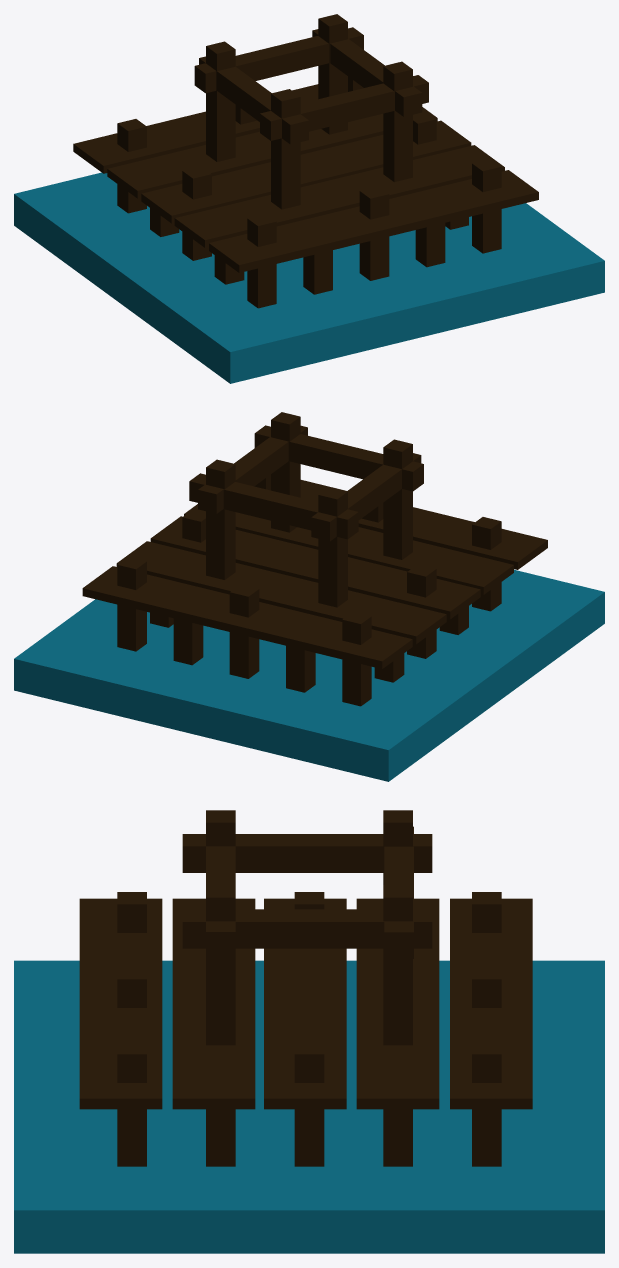
File: Fishery0.obj
The picture shows the model from 3 angles, top to bottom: view 1: azimuth 30°, elevation 25°; view 2: azimuth 150°, elevation 25°; view 3: azimuth 270°, elevation 25°; orthographic projection. The views are drawn at different scales.
Parts seen in each view (by area): view 1: Tilebase118, Box905, Box888, Box906, Box918, Box919, Box910, Box911, Box889, Box908, Box909, Box912 (+11 smaller); view 2: Tilebase118, Box919, Box918, Box906, Box888, Box905, Box911, Box910, Box907, Box909, Box908, Box912 (+12 smaller); view 3: Tilebase118, Box905, Box919, Box906, Box888, Box918, Box913, Box912, Box907, Box889, Box891, Box894 (+11 smaller).
Part boxes in pixels (box(x1,y1,x2,y2)): Tilebase118: box(14, 172, 604, 383); Box905: box(209, 170, 538, 272); Box888: box(174, 145, 504, 247); Box906: box(141, 120, 471, 223); Box918: box(107, 107, 437, 198); Box919: box(73, 84, 318, 173); Box910: box(260, 75, 428, 140); Box911: box(194, 27, 363, 93); Box889: box(383, 61, 412, 181); Box908: box(271, 89, 300, 209); Box909: box(206, 41, 235, 161); Box912: box(199, 56, 308, 144); Tilebase118: box(14, 569, 604, 781); Box919: box(82, 566, 412, 668); Box918: box(116, 541, 446, 644); Box906: box(150, 516, 480, 619); Box888: box(184, 504, 513, 594); Box905: box(300, 480, 547, 569); Box911: box(189, 473, 358, 539); Box910: box(254, 425, 423, 491); Box907: box(206, 459, 235, 579); Box909: box(318, 487, 347, 607); Box908: box(383, 439, 412, 559); Box912: box(311, 453, 421, 541); Tilebase118: box(14, 960, 604, 1253); Box905: box(79, 898, 162, 1109); Box919: box(450, 898, 532, 1109); Box906: box(264, 898, 346, 1109); Box888: box(172, 898, 255, 1109); Box918: box(356, 898, 439, 1109); Box913: box(182, 909, 432, 948); Box912: box(182, 834, 432, 872); Box907: box(383, 885, 412, 1045); Box889: box(206, 885, 235, 1045); Box891: box(294, 1041, 324, 1166); Box894: box(472, 1041, 501, 1166).
Size of the model in its own units: 10 by 5.14 by 10.
